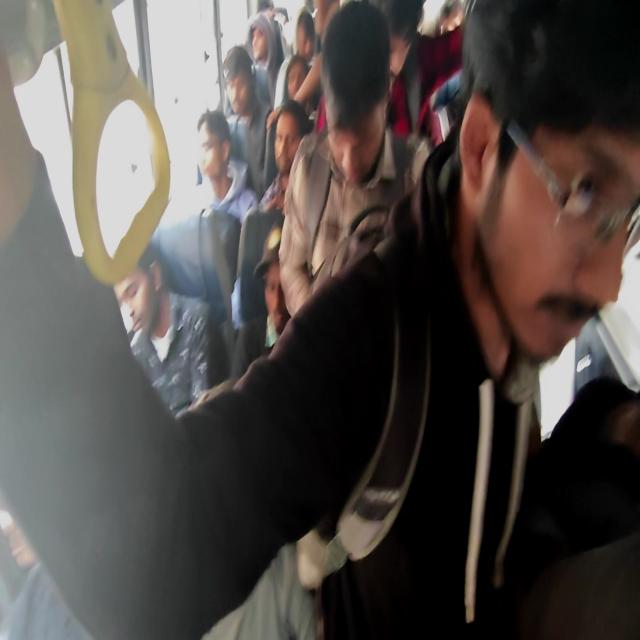person: (485, 94, 634, 370), (464, 0, 634, 156), (318, 8, 393, 191), (0, 498, 94, 640), (384, 0, 467, 145), (255, 222, 291, 349), (272, 98, 314, 177), (118, 257, 158, 337), (0, 495, 34, 573), (195, 106, 231, 178), (226, 47, 253, 105), (248, 22, 280, 66), (294, 6, 317, 66), (438, 0, 464, 36), (257, 0, 273, 14), (302, 0, 315, 16)
